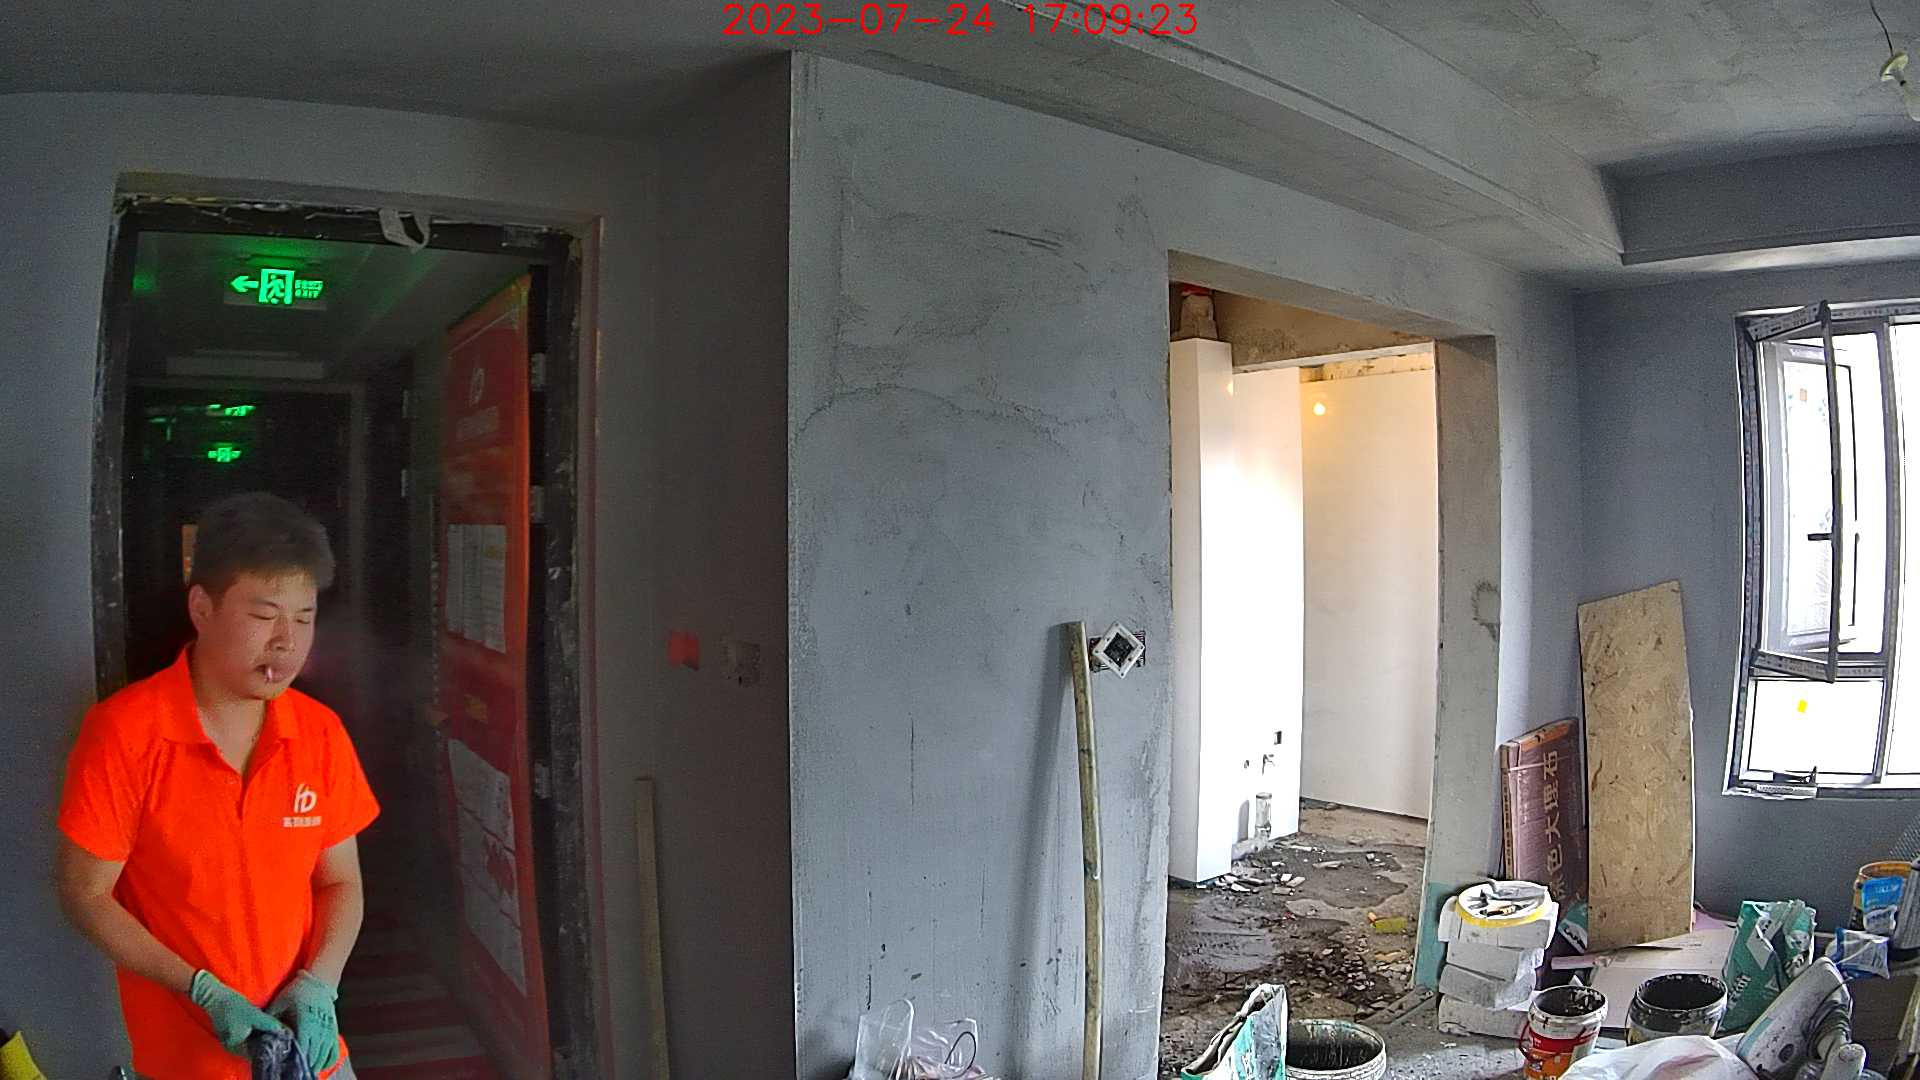people: (58, 490, 364, 1080)
window: (1739, 320, 1920, 774)
